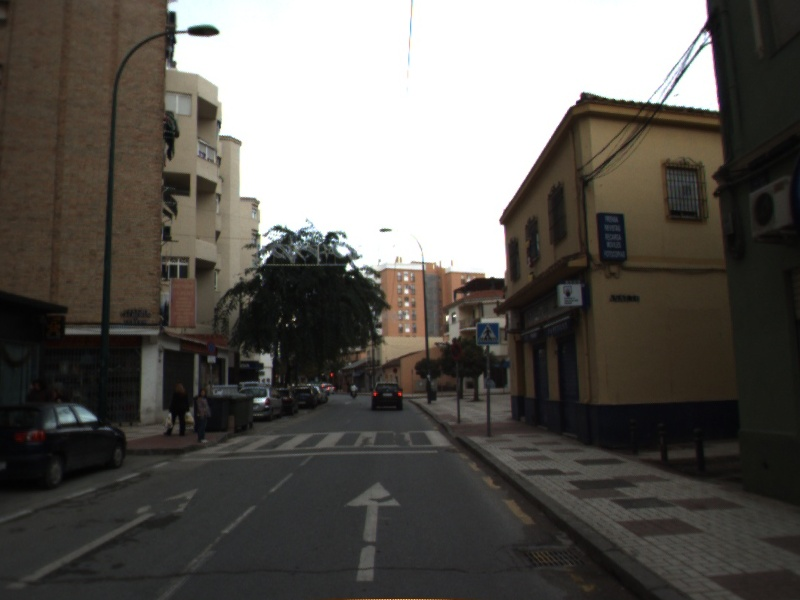STRAIGHT: (2, 485, 200, 593), (341, 479, 404, 584)
